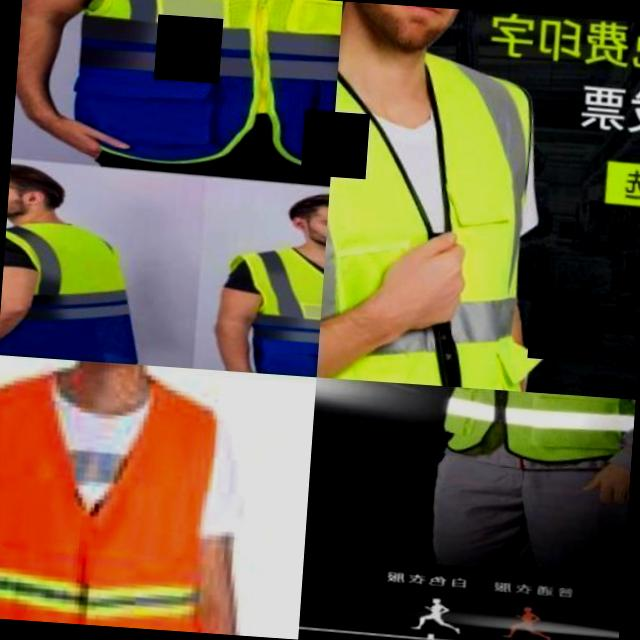vest: (316, 44, 560, 392), (0, 354, 239, 633), (56, 0, 342, 183), (420, 385, 635, 479), (0, 206, 127, 363), (230, 234, 326, 377)
